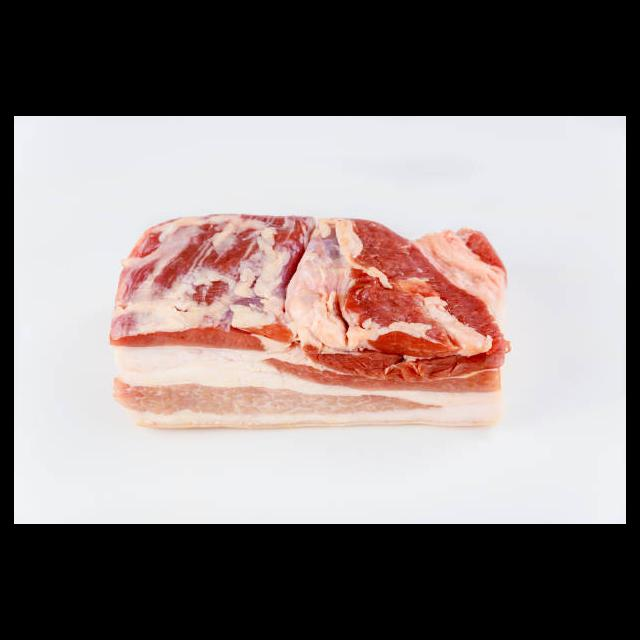pork: (107, 211, 513, 434)
